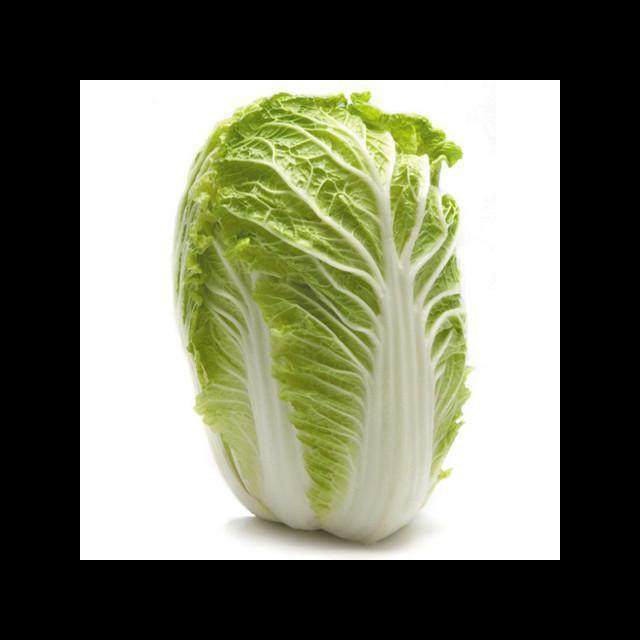cabbage: (169, 89, 473, 550)
